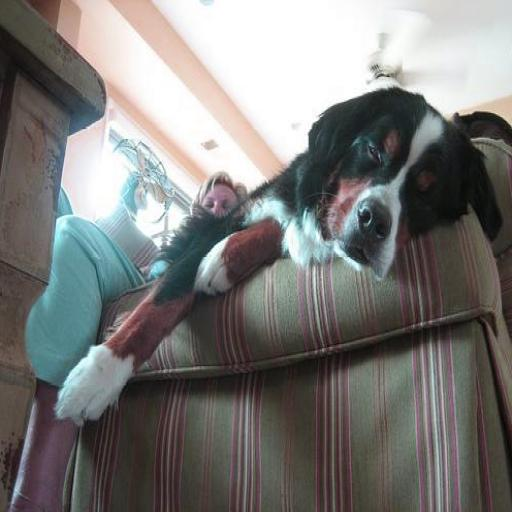dog_face: (306, 82, 496, 285)
